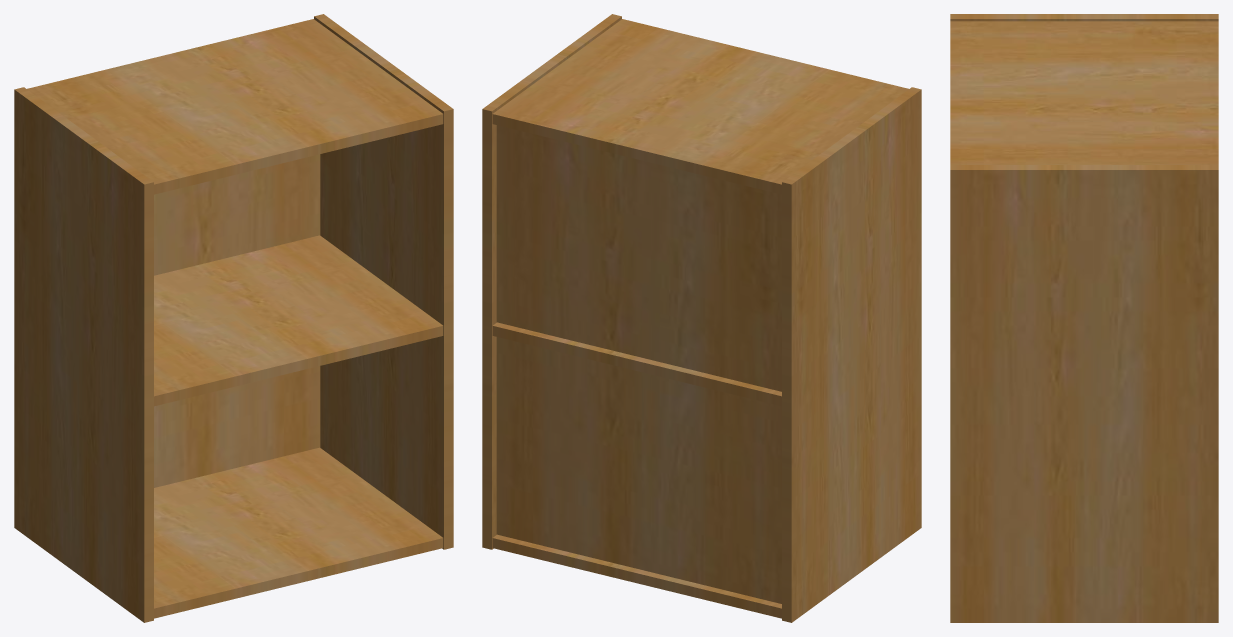
The model's file is meubleChevet.glb.
3 renders of one model, left to right at view 1: azimuth 30°, elevation 25°; view 2: azimuth 150°, elevation 25°; view 3: azimuth 270°, elevation 25°, orthographic. The views are drawn at different scales.
Parts seen in each view (by area): view 1: meubleChevet; view 2: meubleChevet; view 3: meubleChevet.
Part boxes in pixels (x1,y1,x2,y2): meubleChevet: [14, 14, 453, 622]; meubleChevet: [482, 14, 921, 622]; meubleChevet: [950, 14, 1218, 622].
Bounding box in the file's own units: 0.3987 × 0.54 × 0.29.
1 material, 1 textured.
